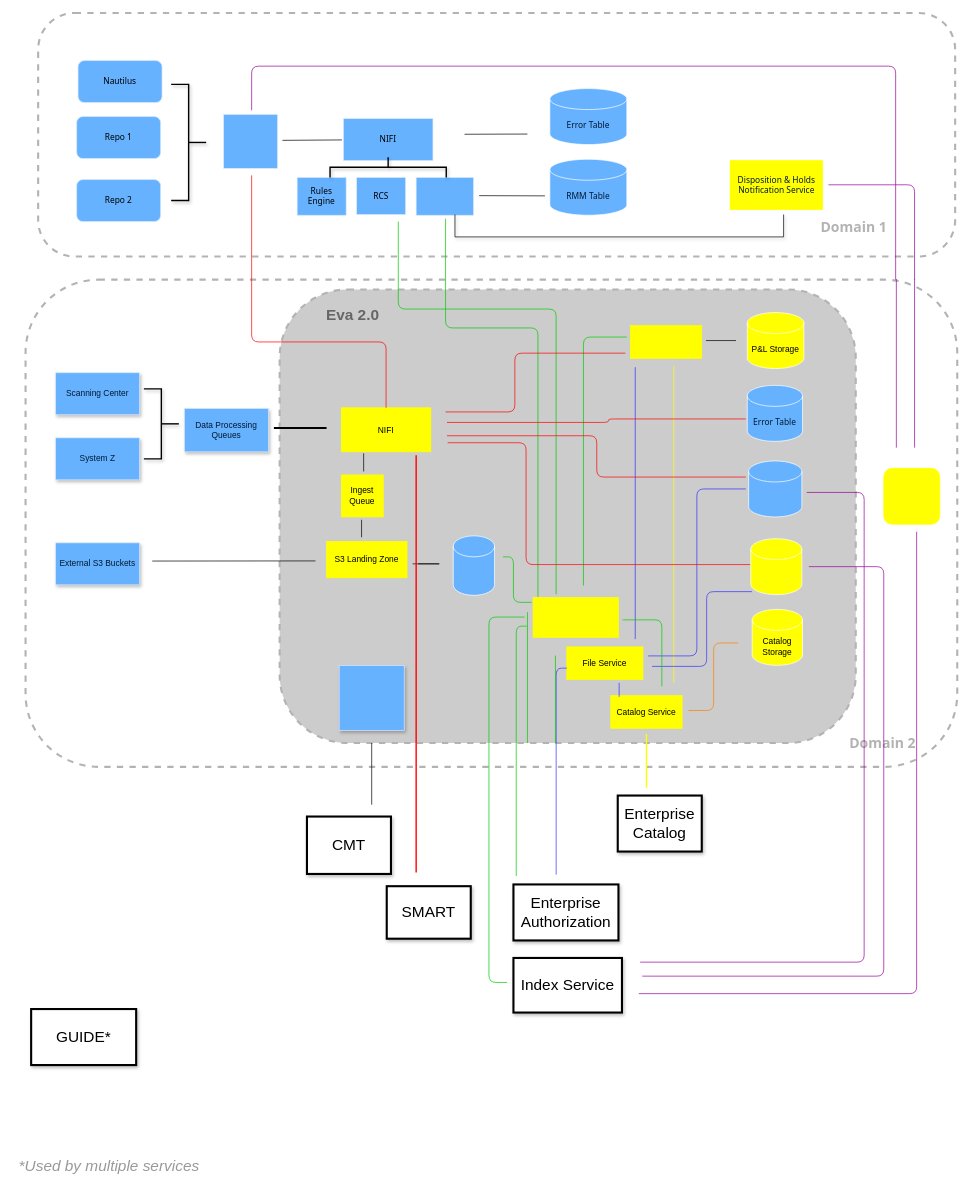
Some shapes in this 970 by 1194 pixel diagram are drawn without their labels. Each missing label, with the centre of its shape:
"Eva API Gateway" goes at point 575,617.
"Ingest Queues" goes at point 250,141.
"Metadata Storage" goes at point 775,488.
"Object Storage" goes at point 776,566.
"Pedigree & Lineage Service" goes at point 666,341.
"RMM" goes at point 444,196.
"SQS Queues" goes at point 911,496.
"UI" goes at point 372,698.
"Workspace" goes at point 474,565.
